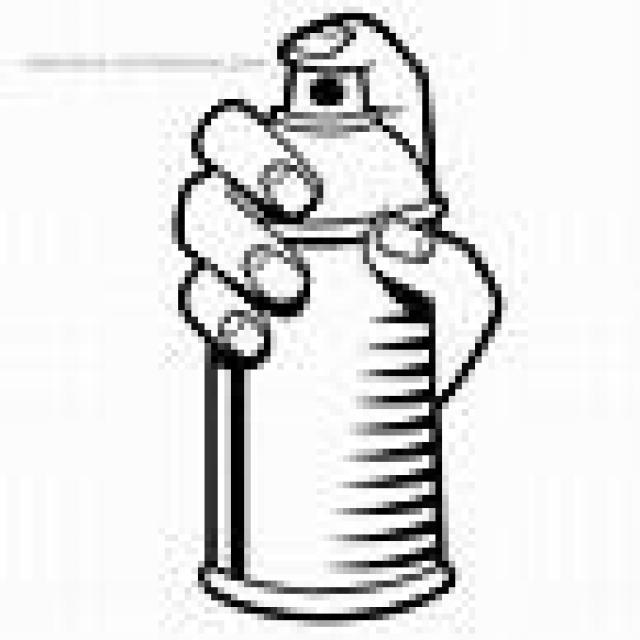spitting: (171, 13, 502, 624)
